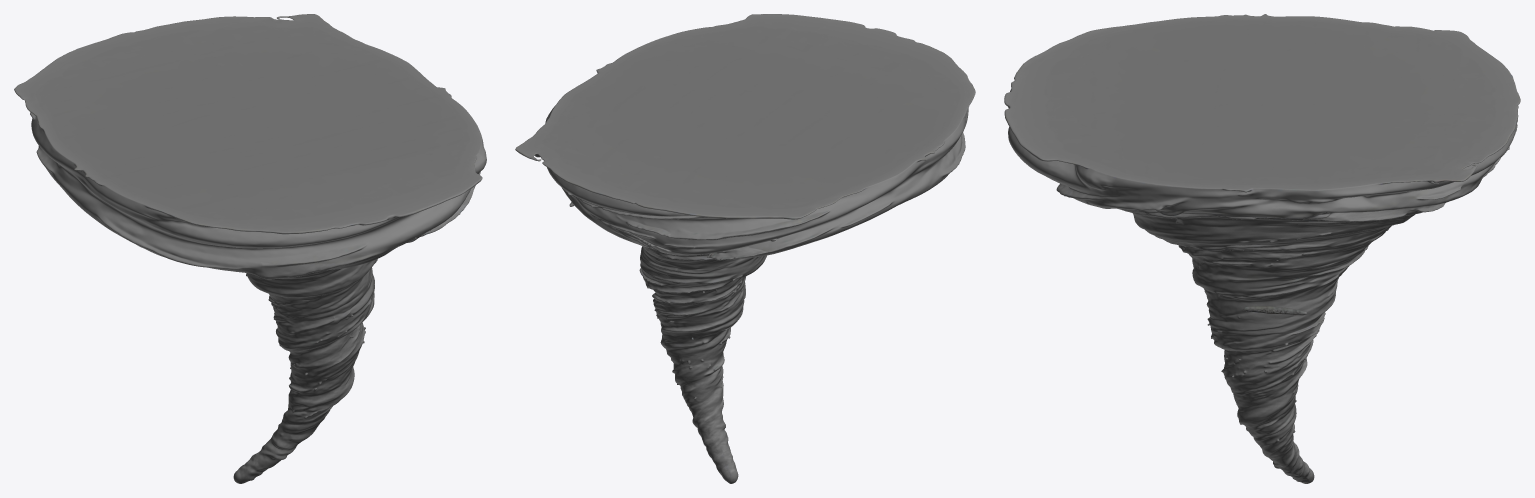
File: tornado-3d-model-82212eac.glb
3 renders of one model, left to right at view 1: azimuth 30°, elevation 25°; view 2: azimuth 150°, elevation 25°; view 3: azimuth 270°, elevation 25°, orthographic. The views are drawn at different scales.
Visible parts, largest first — view 1: tripo_node_e32a0233-fda4-4c27-83a9-133ebd54415a; view 2: tripo_node_e32a0233-fda4-4c27-83a9-133ebd54415a; view 3: tripo_node_e32a0233-fda4-4c27-83a9-133ebd54415a.
Part boxes in pixels (x1=…): tripo_node_e32a0233-fda4-4c27-83a9-133ebd54415a: x1=14, y1=14, x2=486, y2=483; tripo_node_e32a0233-fda4-4c27-83a9-133ebd54415a: x1=515, y1=14, x2=975, y2=483; tripo_node_e32a0233-fda4-4c27-83a9-133ebd54415a: x1=1004, y1=14, x2=1520, y2=483.
Size of the model in its own units: 0.816 by 0.8069 by 1.
Materials: 1 (1 with a texture image).
